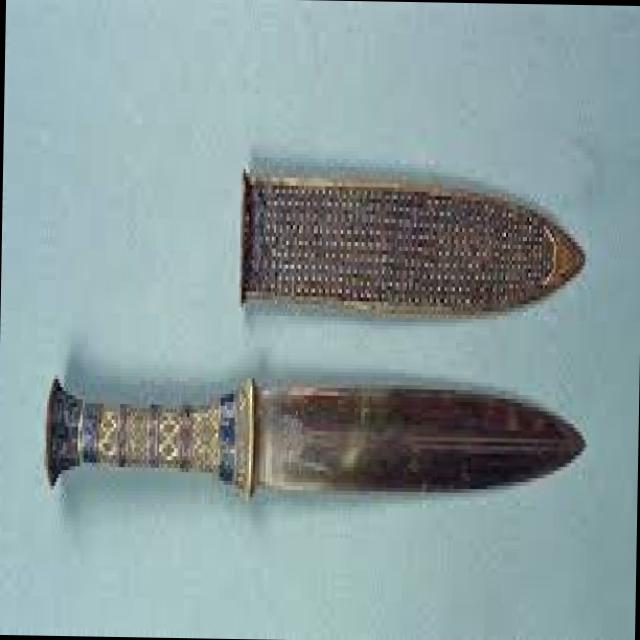Gun: (7, 392, 578, 520)
